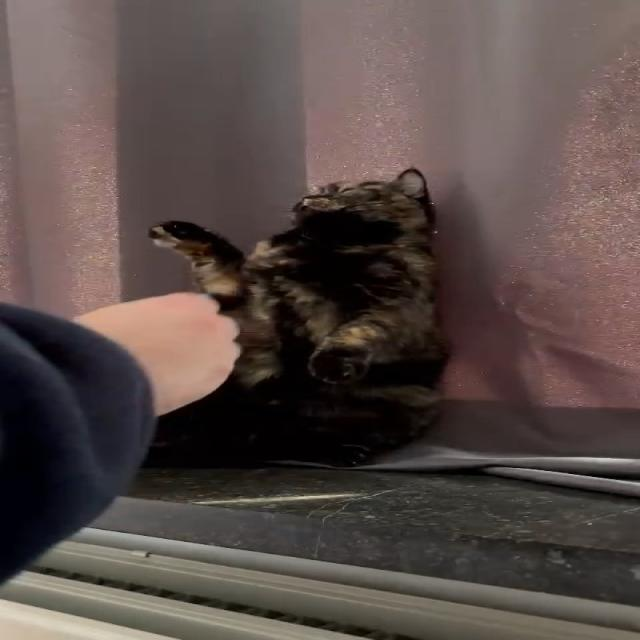authorized: (144, 167, 452, 468)
